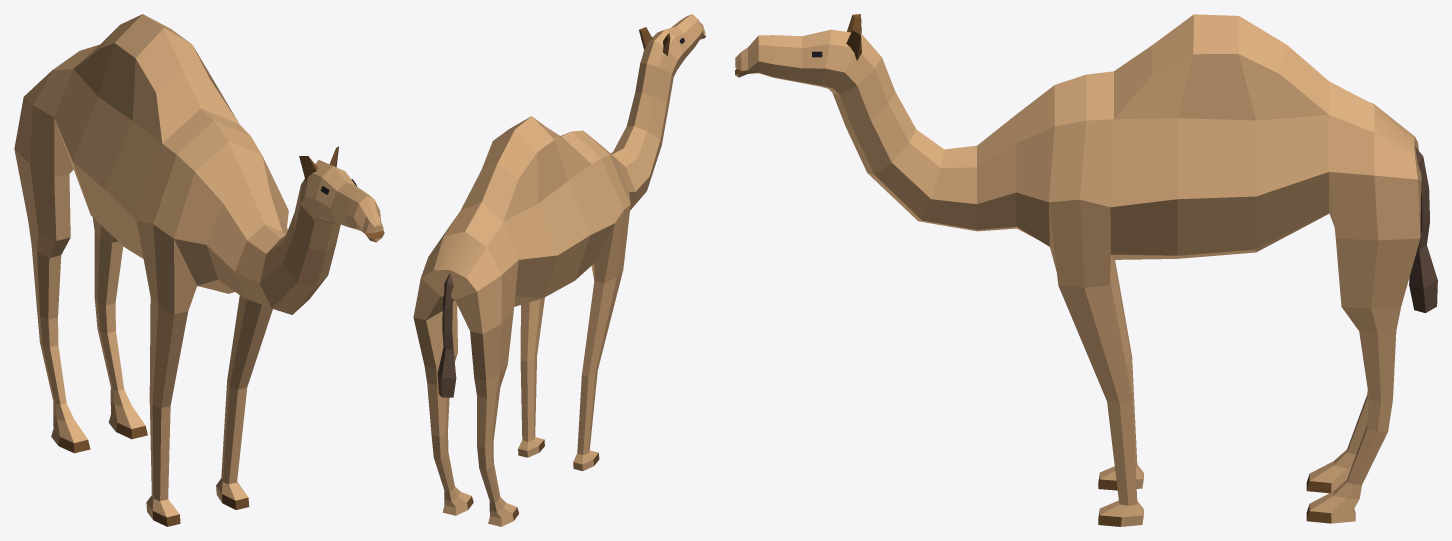
File: 3f877d62-5891-4de2-8324-ff602bdb1b1a.glb
3 views of the same model, side by side, from view 1: azimuth 30°, elevation 25°; view 2: azimuth 150°, elevation 25°; view 3: azimuth 270°, elevation 25° (orthographic). The views are drawn at different scales.
Visible parts, largest first — view 1: Geo_Camel; view 2: Geo_Camel; view 3: Geo_Camel.
Boxes of the visible parts, box(x1,y1,x2,y2) form: Geo_Camel: box(14, 14, 384, 526); Geo_Camel: box(413, 14, 705, 526); Geo_Camel: box(735, 14, 1437, 526).
Size of the model in its own units: 64.19 by 211 by 275.
Materials: 1 (1 with a texture image).
